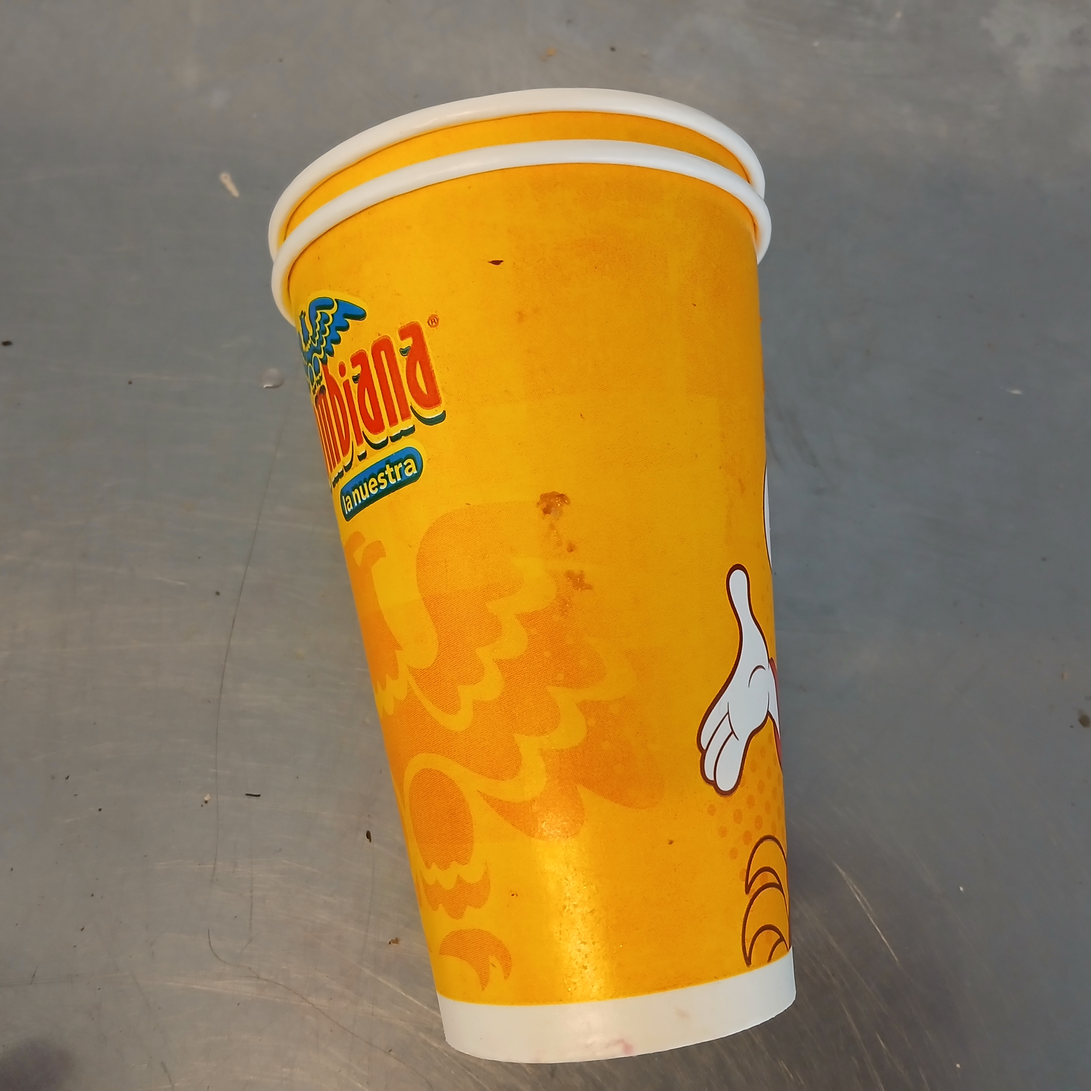Carton: (263, 90, 796, 1067)
